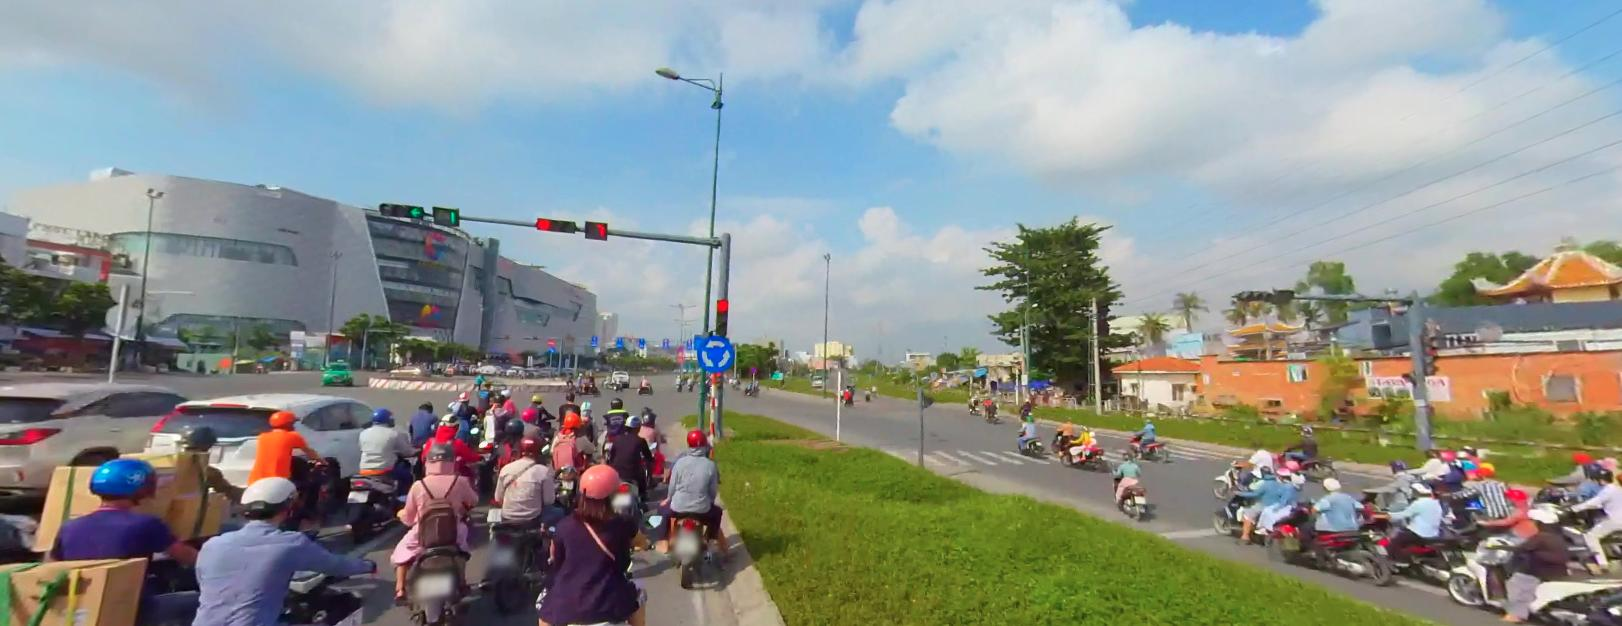Cam dung va do: (750, 364, 756, 371)
Cam nguoc chieu: (547, 337, 554, 342)
Hieu lenh: (695, 331, 735, 370), (548, 344, 555, 351)
